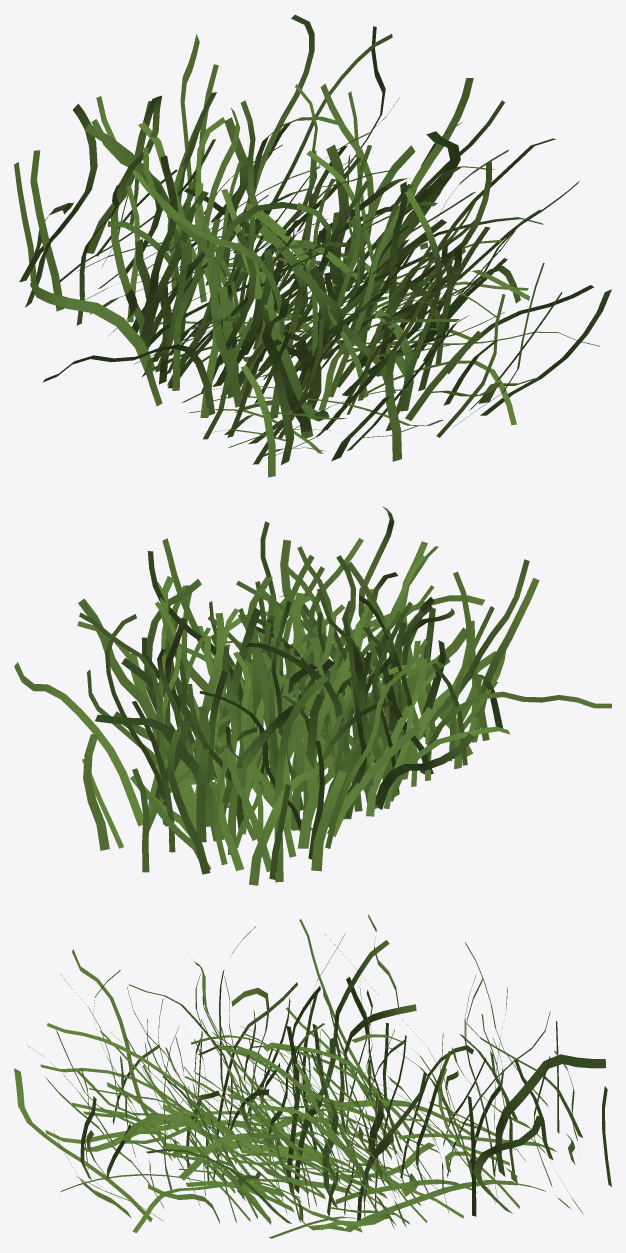
Rendered from plant_swamp_grass_short_flat_C.fbx.
The picture shows the model from 3 angles, top to bottom: view 1: azimuth 30°, elevation 25°; view 2: azimuth 150°, elevation 25°; view 3: azimuth 270°, elevation 25°; orthographic projection. The views are drawn at different scales.
Visible parts, largest first — view 1: plant_swamp_grass_short_flat_C; view 2: plant_swamp_grass_short_flat_C; view 3: plant_swamp_grass_short_flat_C.
Part boxes in pixels (box(x1,y1,x2,y2)): plant_swamp_grass_short_flat_C: box(14, 14, 611, 477); plant_swamp_grass_short_flat_C: box(14, 506, 611, 885); plant_swamp_grass_short_flat_C: box(14, 914, 611, 1238).
Bounding box in the file's own units: 492 × 207 × 497.
